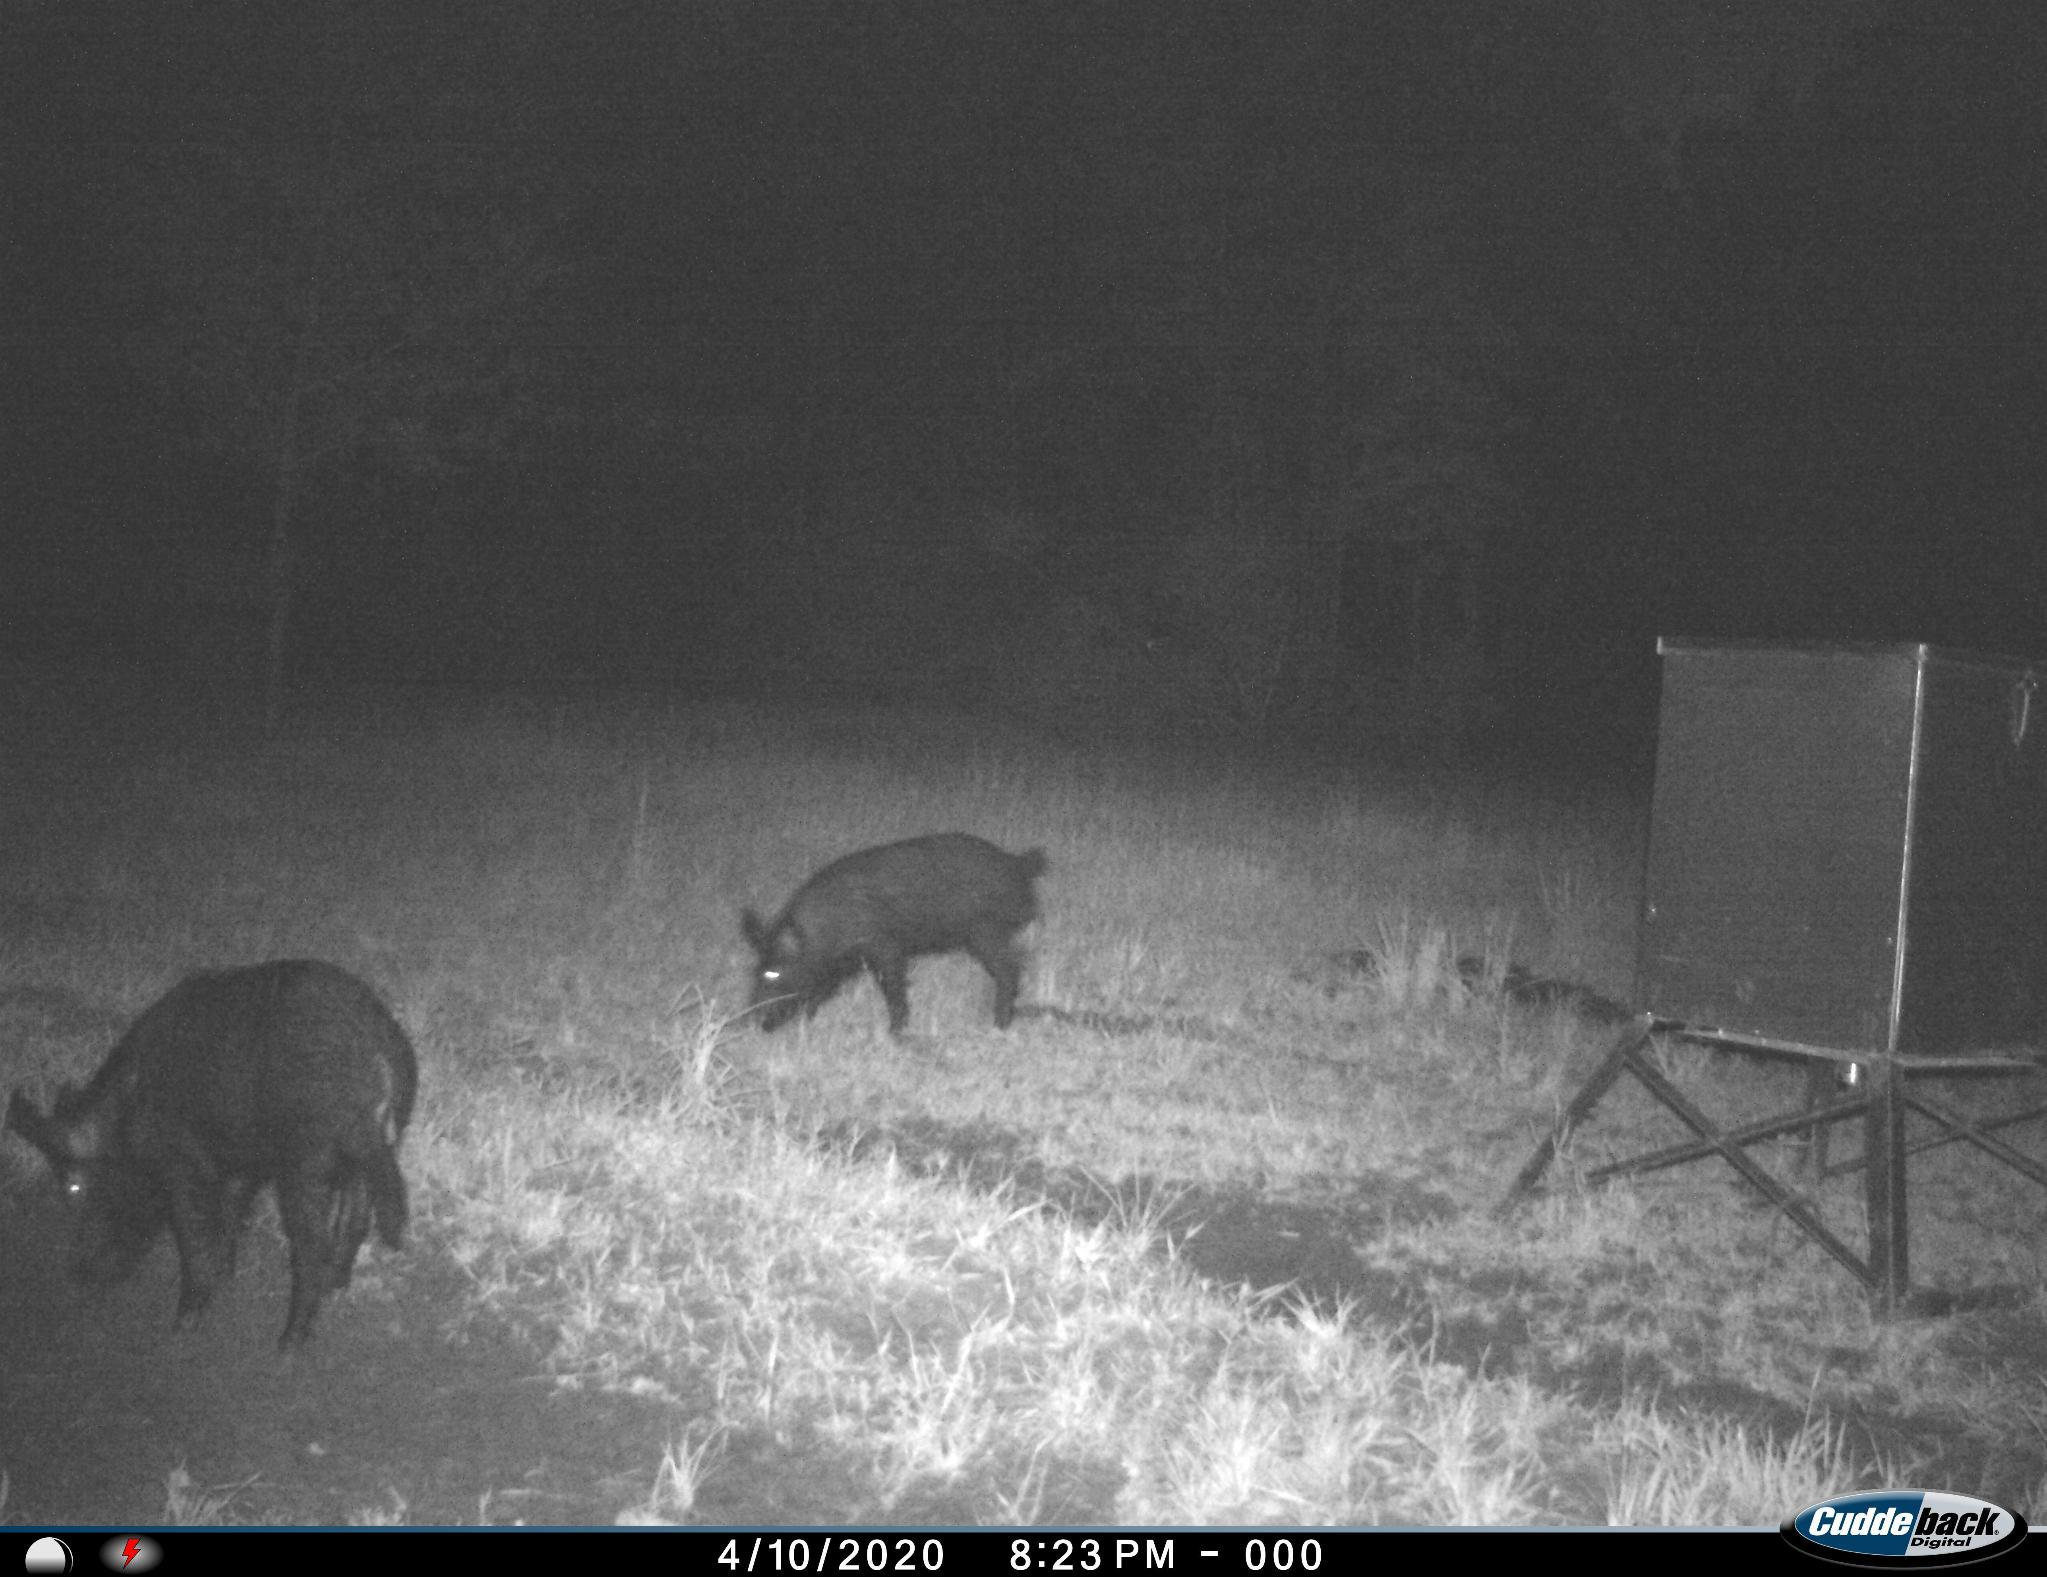Hog: (13, 946, 442, 1363), (734, 822, 1057, 1052)
